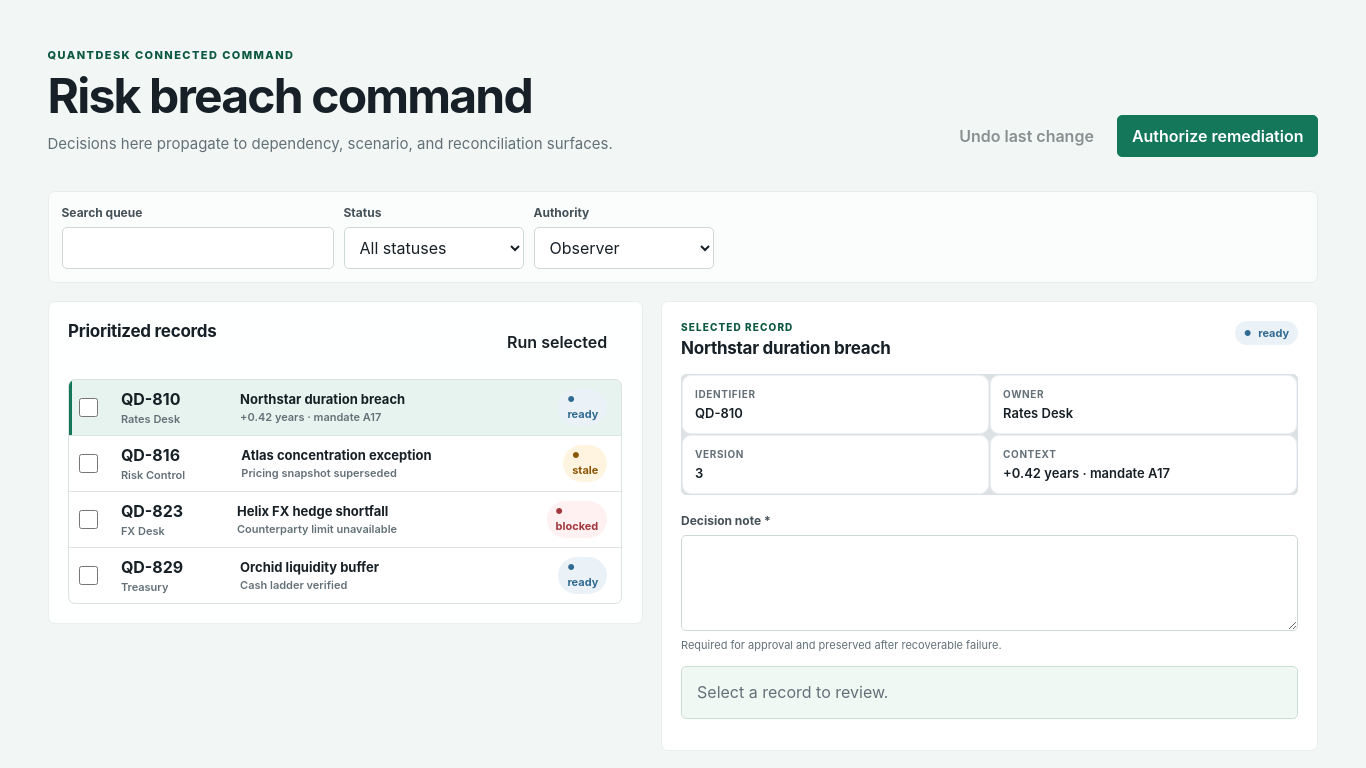
Test: Risk breach command › enforces authority and validates the explanation
The width and height of the screenshot is (1366, 768).
Click the button "Authorize remediation".
click(1218, 136)  # box [1117, 115, 1318, 157]
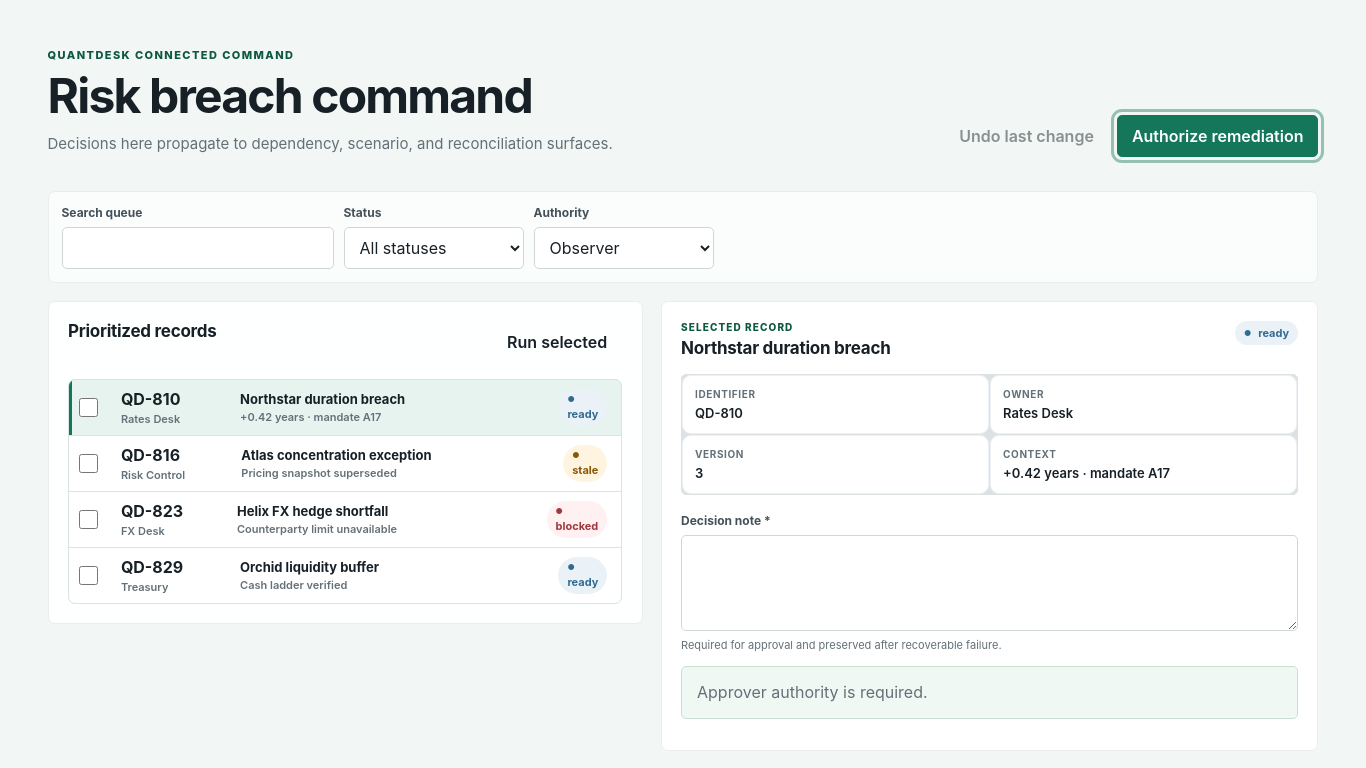
expect the message shows "Approver authority": met, box [697, 682, 928, 702]
Select "Approver" in the dropdown labelled "Authority" at (624, 248), box [534, 227, 714, 269]
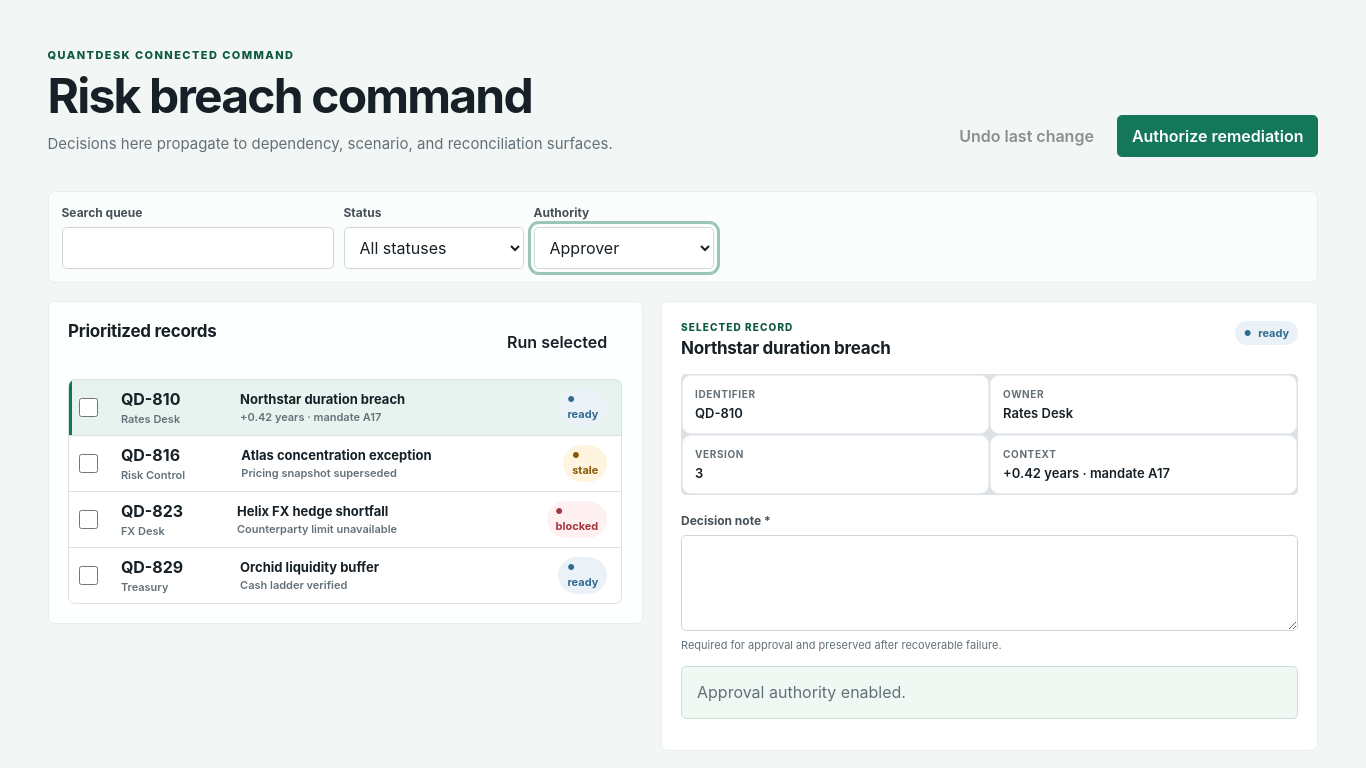
Type "short" into the text box labelled "Decision note".
click(990, 583); type("short")  # box [681, 535, 1298, 631]
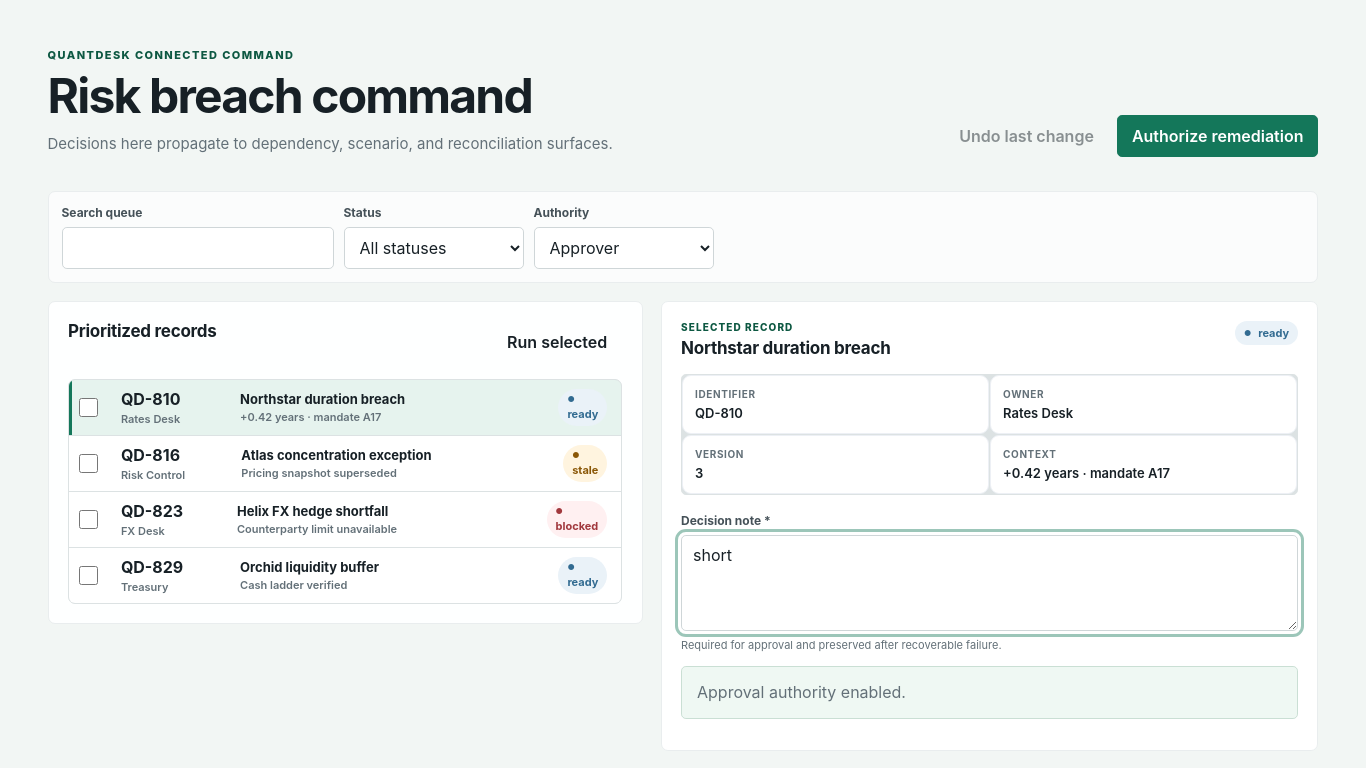
Click the button "Authorize remediation".
click(1218, 136)  # box [1117, 115, 1318, 157]
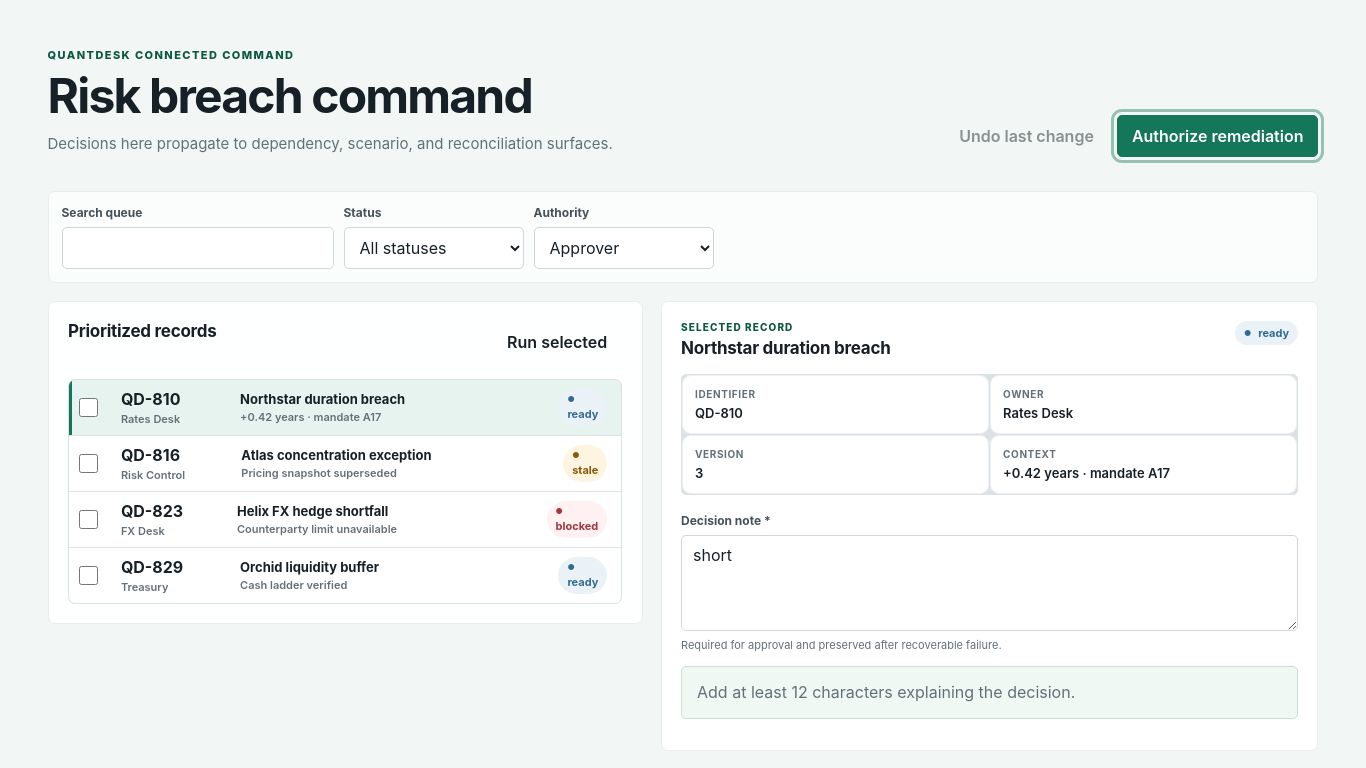
expect the message shows "12 characters": met, box [697, 682, 1075, 702]
